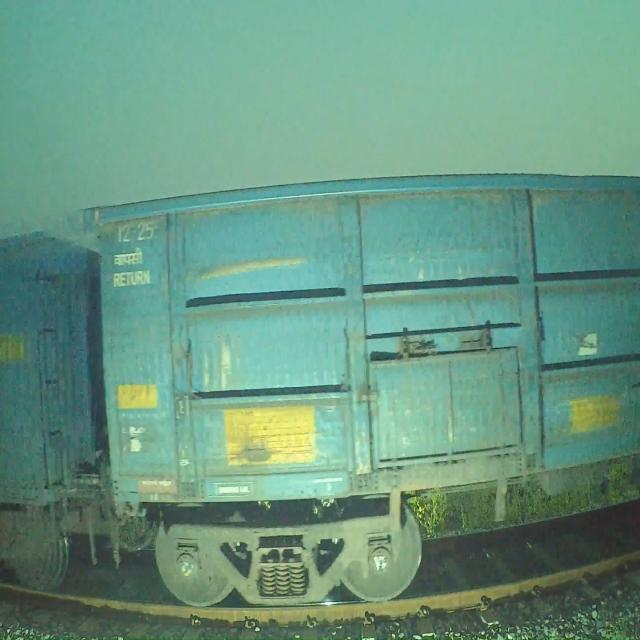WAgon-uic: (74, 166, 640, 609), (0, 221, 176, 596)
